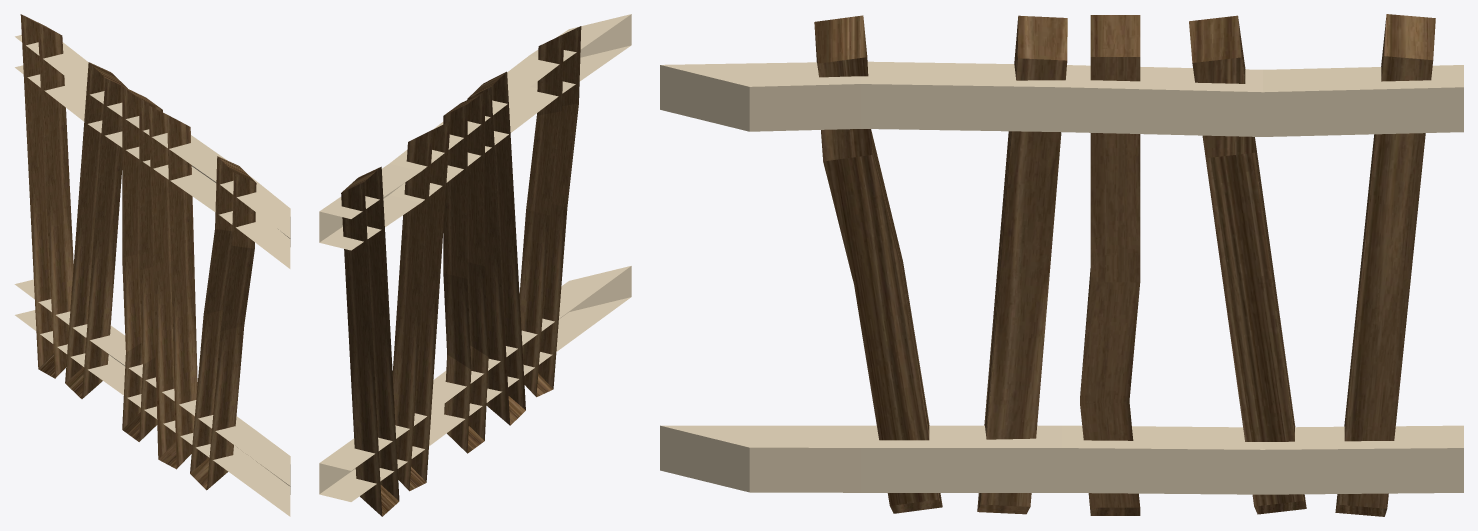
Rendered from Rail Start.glb.
The picture shows the model from 3 angles, left to right: view 1: azimuth 30°, elevation 25°; view 2: azimuth 150°, elevation 25°; view 3: azimuth 270°, elevation 25°; orthographic projection. The views are drawn at different scales.
Visible parts, largest first — view 1: Rail_start; view 2: Rail_start; view 3: Rail_start.
Boxes of the visible parts, <box> form: Rail_start: <box>14,14,290,516</box>; Rail_start: <box>319,14,631,516</box>; Rail_start: <box>660,14,1463,516</box>.
Bounding box in the file's own units: 0.0558 × 0.4879 × 0.7061.
2 materials, 1 textured.
